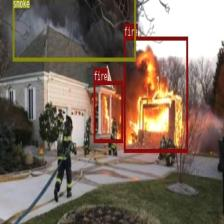fire: (124, 36, 187, 152), (94, 81, 122, 142)
smoke: (12, 0, 135, 60)
